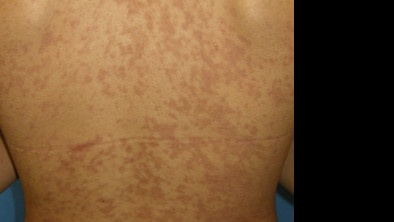SJS-TEN: (0, 0, 300, 222)
